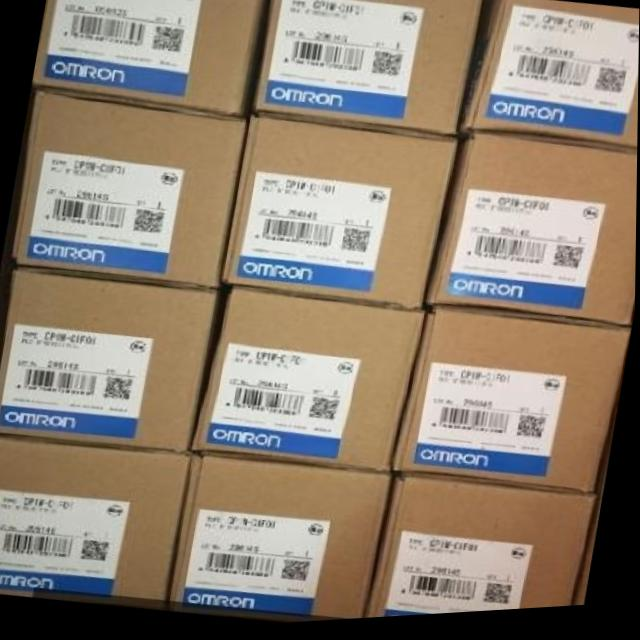box: (13, 90, 250, 291), (223, 115, 459, 316), (394, 310, 630, 499), (193, 289, 426, 475), (0, 268, 229, 453), (425, 137, 638, 332), (169, 455, 393, 626), (0, 435, 193, 611), (369, 478, 597, 622), (252, 0, 483, 140), (33, 0, 271, 121), (457, 0, 639, 157)
